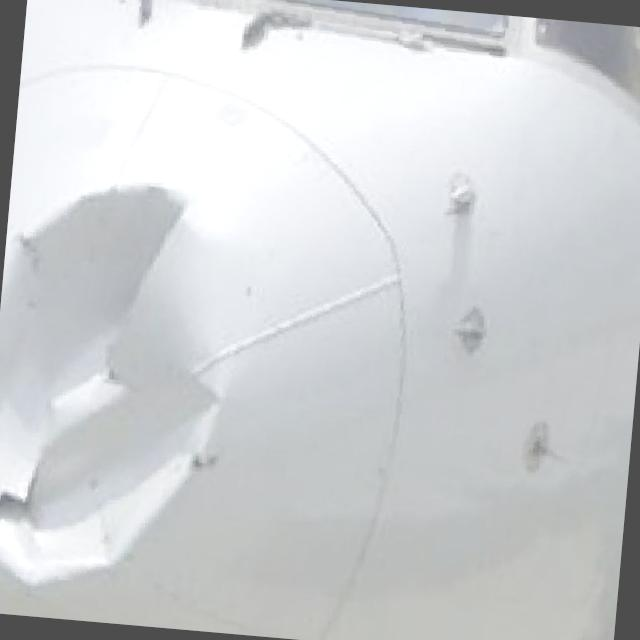dent: (0, 165, 250, 603)
